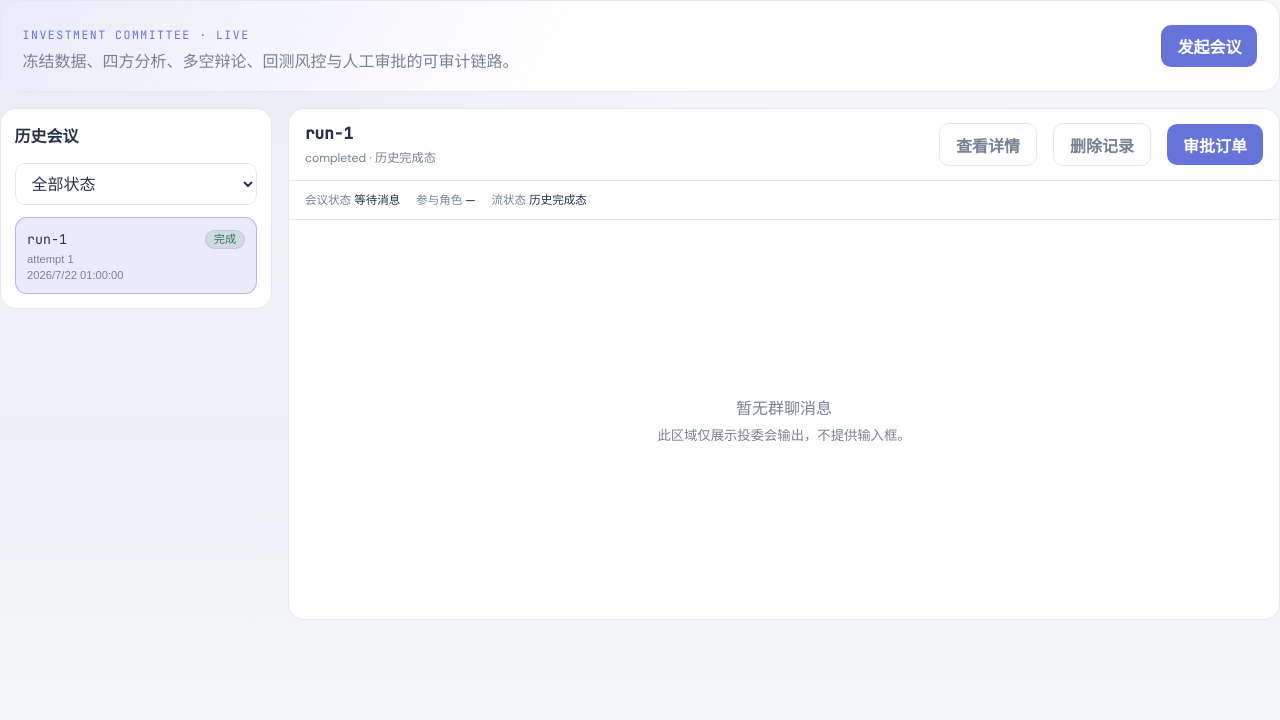
Test case: CommitteePage › 删除失败时保留当前详情并显示错误
What coordinates should you click on to do the following:
click the button "删除记录"
I would click on:
 (1102, 145)
Its box is x1=1053 y1=123 x2=1151 y2=166.
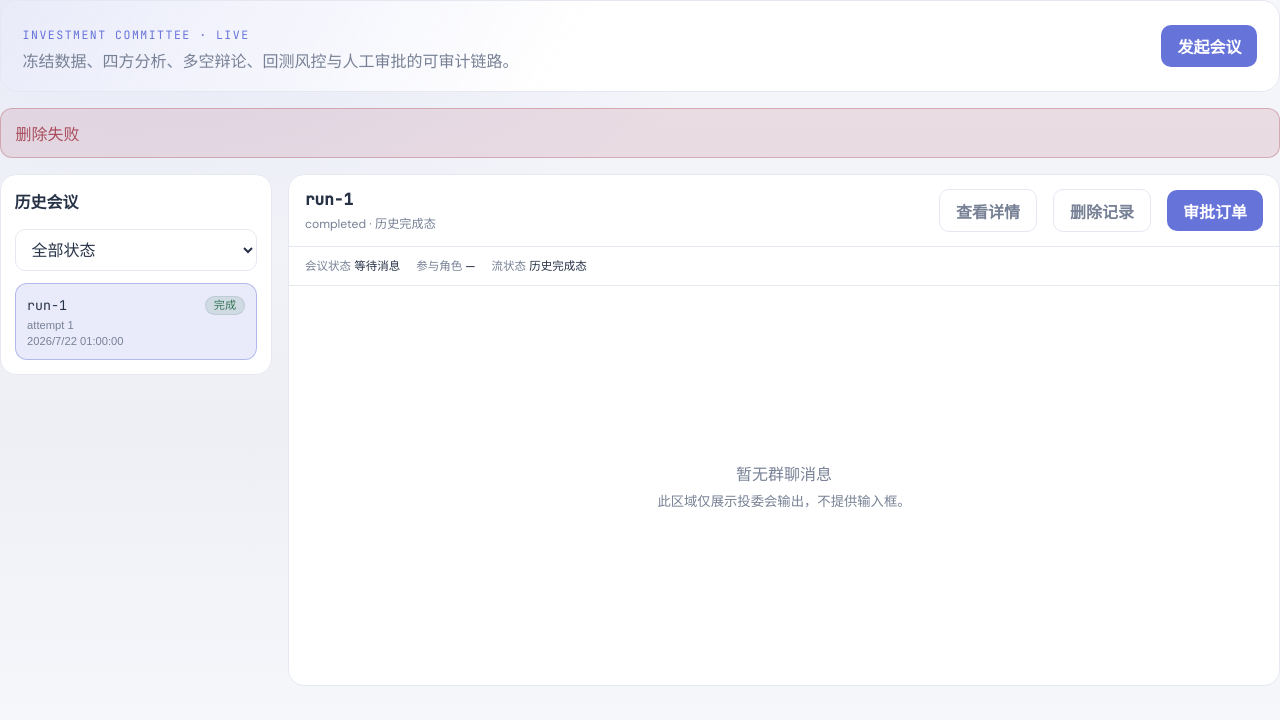
Expected: the heading "run-1" is shown, x1=305 y1=189 x2=353 y2=210
Expected: the message reads "删除失败", x1=15 y1=124 x2=79 y2=145
